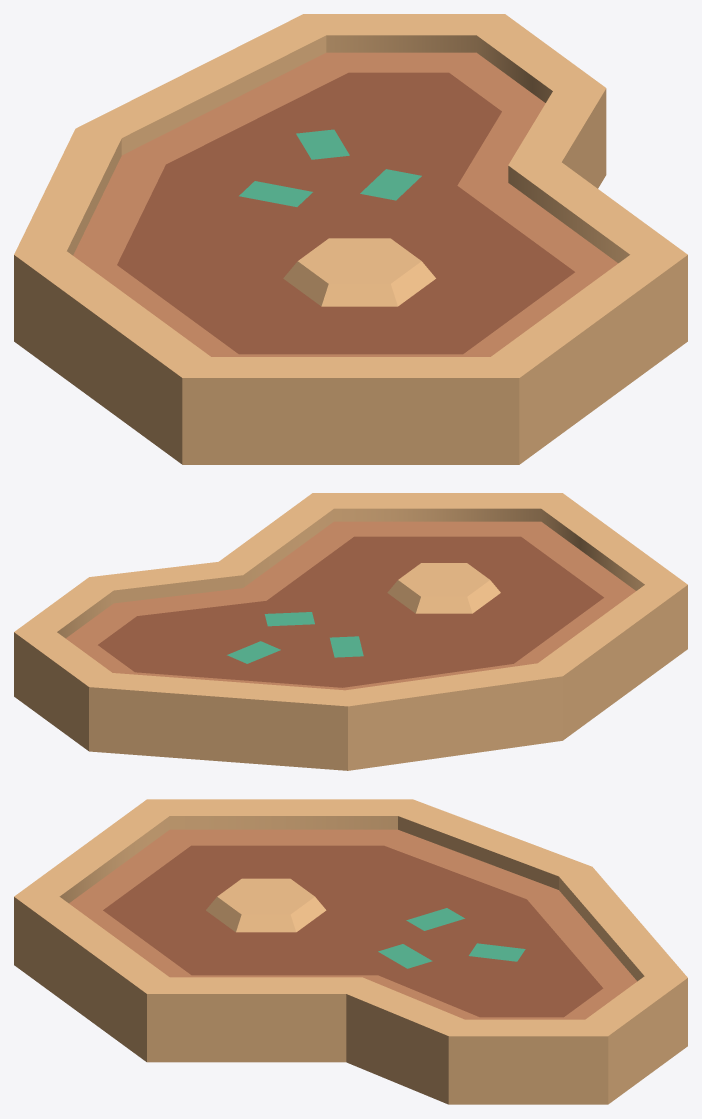
File: meatCooked.dae
3 views of the same model, one above another, from view 1: azimuth 30°, elevation 25°; view 2: azimuth 150°, elevation 25°; view 3: azimuth 270°, elevation 25° (orthographic). The views are drawn at different scales.
Parts seen in each view (by area): view 1: meatCooked; view 2: meatCooked; view 3: meatCooked.
Part boxes in pixels (left/top/right/bottom): meatCooked: left=14, top=14, right=687, bottom=464; meatCooked: left=14, top=493, right=687, bottom=770; meatCooked: left=14, top=799, right=687, bottom=1104.
Size of the model in its own units: 0.4785 by 0.0645 by 0.5754.
